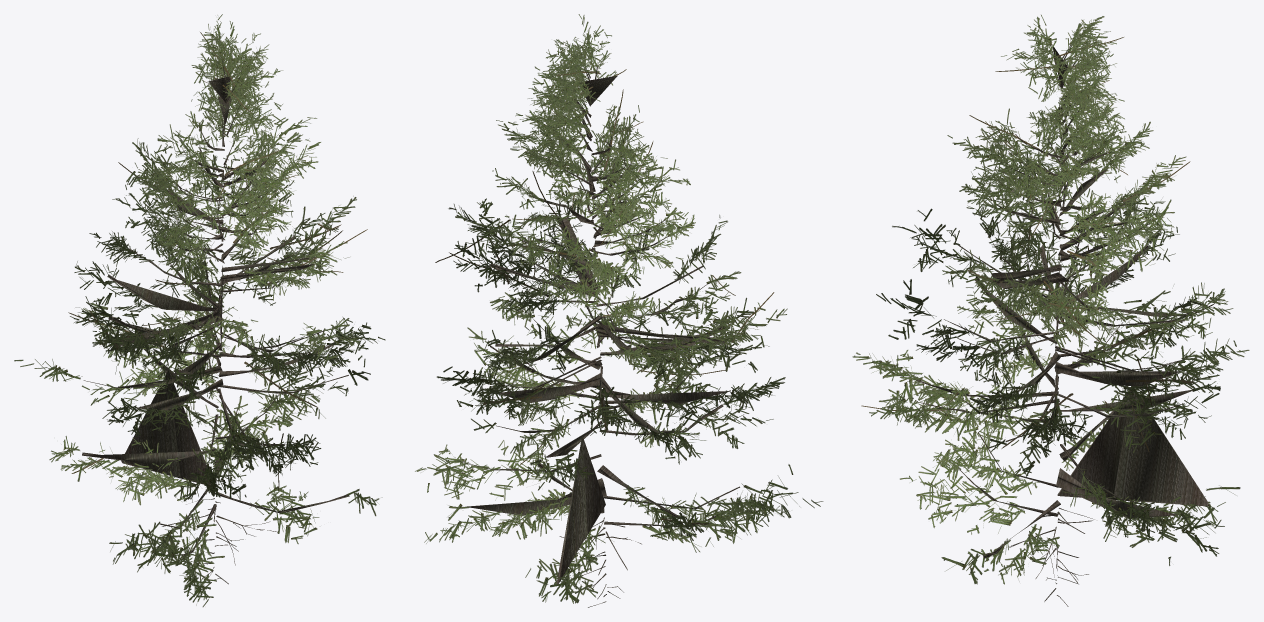
Rendered from gtree_fir.far.glb.
The picture shows the model from 3 angles, left to right: view 1: azimuth 30°, elevation 25°; view 2: azimuth 150°, elevation 25°; view 3: azimuth 270°, elevation 25°; orthographic projection. The views are drawn at different scales.
Visible parts, largest first — view 1: gtree_fir_v0_lod0; view 2: gtree_fir_v0_lod0; view 3: gtree_fir_v0_lod0.
Boxes of the visible parts, x1,y1,x2,y2 form: gtree_fir_v0_lod0: (14, 14, 385, 606); gtree_fir_v0_lod0: (415, 14, 823, 607); gtree_fir_v0_lod0: (852, 15, 1249, 606).
Size of the model in its own units: 4.29 by 7.51 by 4.51.
Materials: 3 (3 with a texture image).
